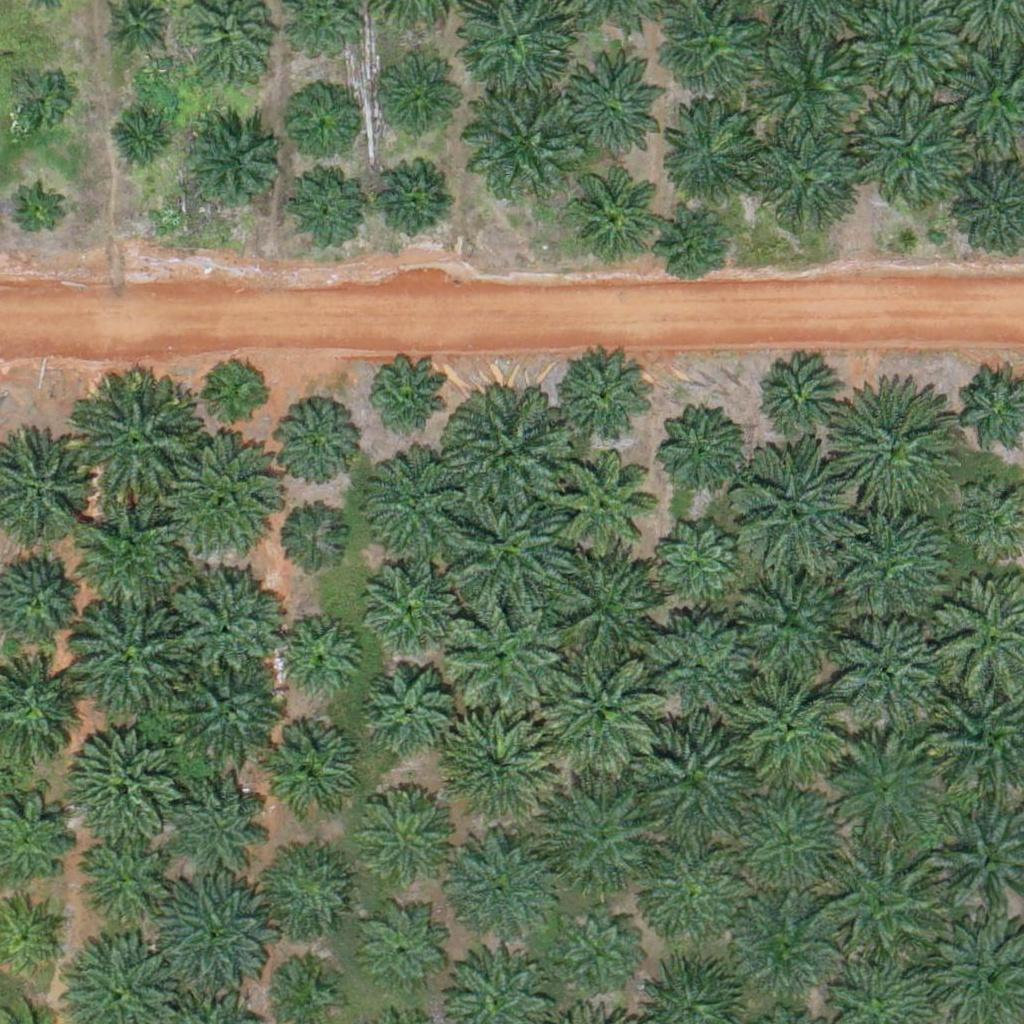Kelapa_Sawit: (830, 391, 955, 517), (817, 849, 942, 975), (737, 449, 862, 575), (545, 650, 670, 776), (444, 390, 569, 516), (74, 385, 199, 511), (448, 484, 573, 609), (438, 712, 551, 826), (174, 440, 287, 554), (834, 513, 947, 626), (733, 790, 846, 903), (736, 674, 849, 787), (634, 721, 747, 834), (548, 783, 661, 896), (449, 597, 562, 710), (363, 445, 476, 558), (156, 875, 269, 988), (77, 503, 190, 616), (68, 604, 181, 717), (65, 724, 178, 837), (751, 129, 864, 242), (753, 26, 866, 139), (465, 82, 578, 195), (837, 734, 949, 847), (730, 568, 842, 681), (633, 837, 745, 950), (550, 550, 662, 663), (440, 835, 552, 948), (174, 655, 286, 768), (169, 568, 281, 681), (853, 97, 965, 210), (557, 58, 669, 171), (835, 622, 935, 723), (736, 900, 836, 1001), (650, 616, 750, 717), (557, 459, 657, 560), (555, 348, 655, 449), (172, 762, 272, 863), (661, 100, 761, 201), (181, 113, 281, 214), (261, 724, 361, 824), (271, 402, 359, 491), (362, 560, 450, 648), (272, 614, 360, 702), (71, 838, 159, 926), (565, 170, 653, 258), (363, 356, 450, 444), (365, 790, 452, 878), (364, 664, 451, 752), (266, 845, 353, 933), (370, 51, 457, 139), (273, 507, 348, 583), (762, 365, 837, 441), (663, 413, 738, 489), (661, 530, 736, 606), (368, 916, 443, 992), (378, 167, 453, 243), (289, 171, 364, 247), (562, 906, 637, 981), (286, 94, 349, 157), (110, 112, 173, 175), (207, 359, 270, 422), (5, 67, 68, 130), (660, 211, 723, 274), (11, 189, 61, 240)
